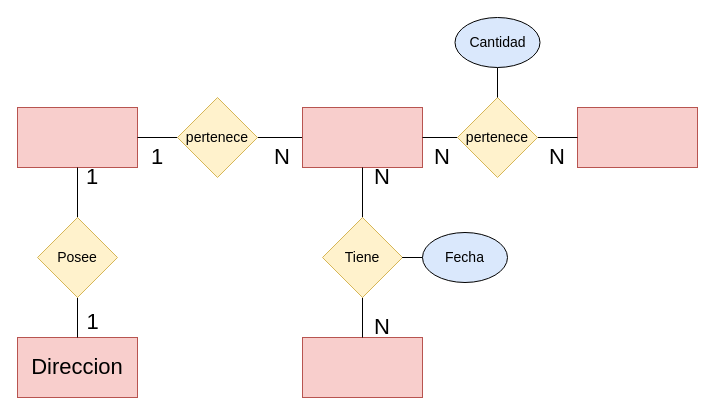
Image size: 715x415. Some labels were removed from this diagram. The centre of each missing label's shape, as x and y in pixels:
"Cliente" goes at point 77,137.
"Estado" goes at point 362,367.
"Producto" goes at point 637,137.
"Venta" goes at point 362,137.
